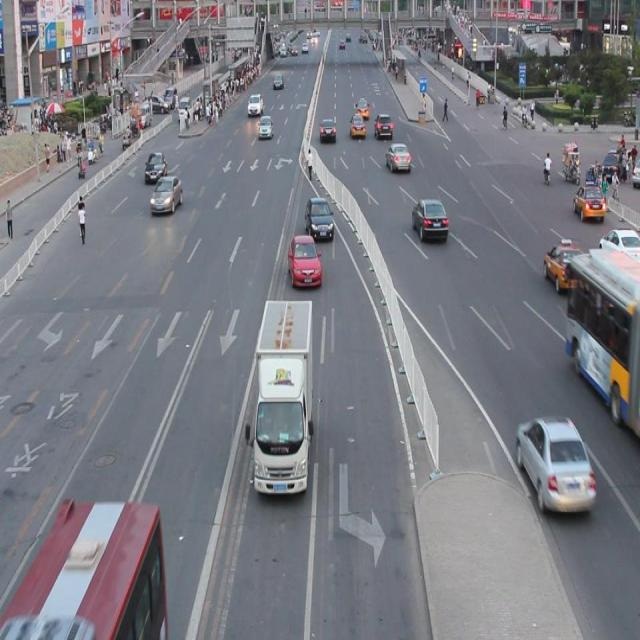bus: (252, 298, 313, 491)
car: (514, 414, 593, 513), (543, 240, 586, 292), (596, 226, 640, 268), (288, 234, 320, 286), (412, 198, 448, 242), (572, 182, 604, 221), (305, 196, 333, 240), (150, 176, 182, 214), (145, 151, 167, 184)
van: (1, 498, 167, 640), (564, 251, 640, 433)
